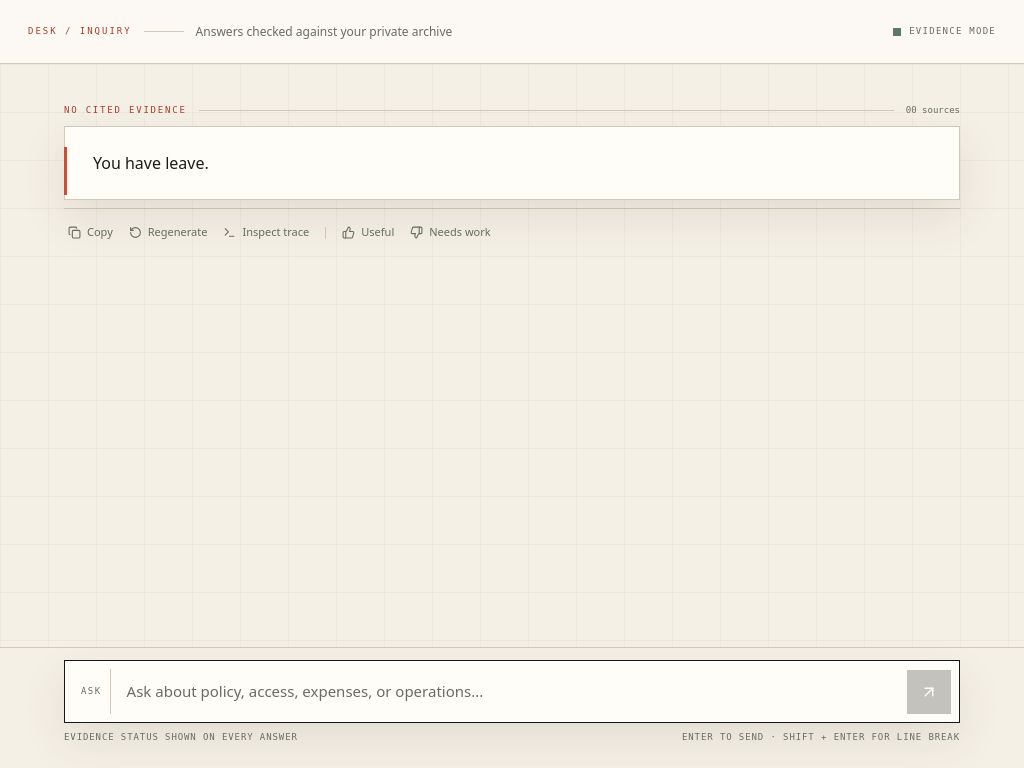
Test case: renders stored debug traces from historical messages after reload
Expected: the text "You have leave." is shown, [93,152,209,174]
Expected: the text "No cited evidence" is shown, [64,104,187,118]
What coordinates should you click on to do the following:
click the button with aria-label "Show RAG trace"
I would click on:
 (266, 232)
Its box is [220,216,313,248].
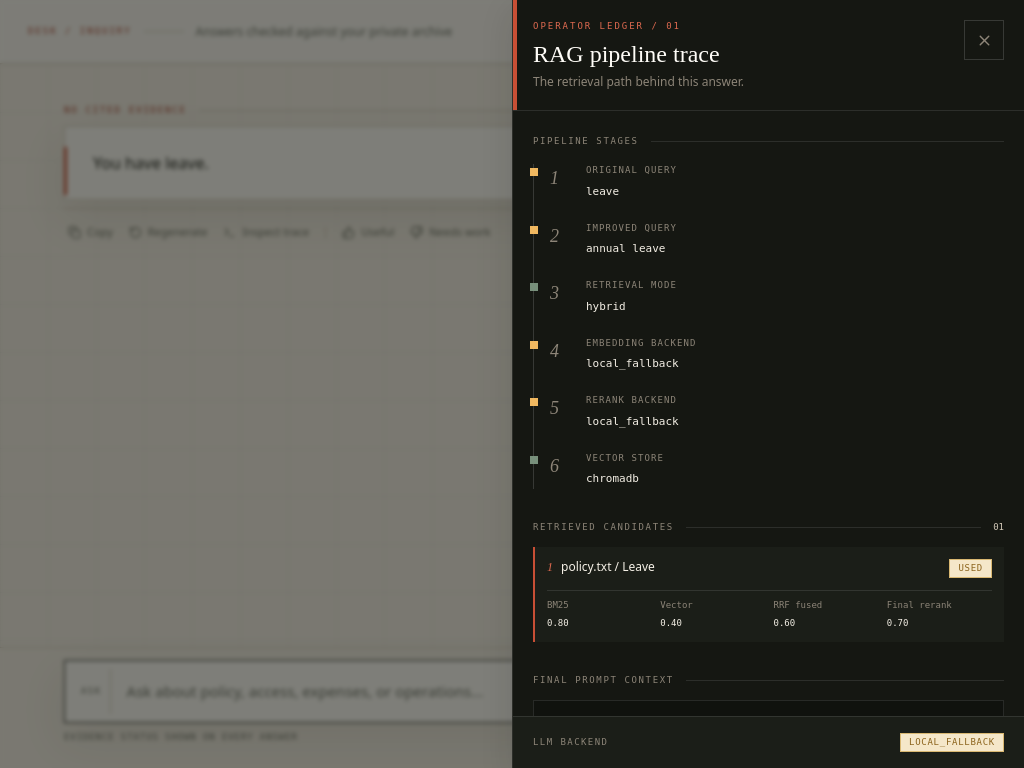
Now the text "BM25" is shown, box [547,600,569,610]
Now the text "Vector" is shown, box [660,600,693,610]
Now the text "RRF fused" is shown, box [774,600,822,610]
